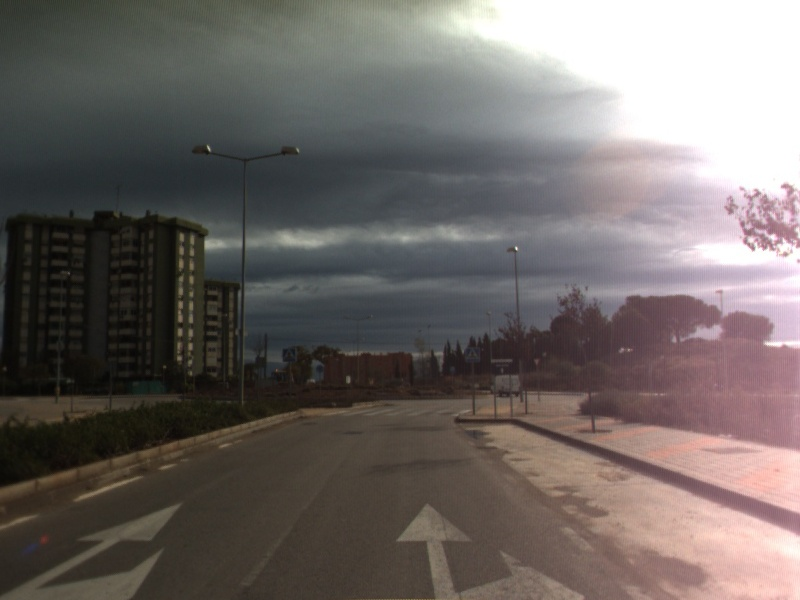STRAIGHT_RIGHT: (392, 500, 588, 600), (1, 498, 187, 600)
